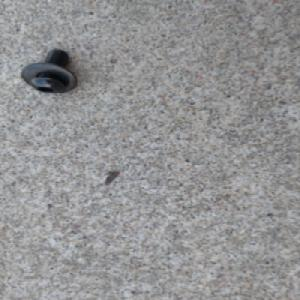BoltWasher: (19, 46, 81, 94)
